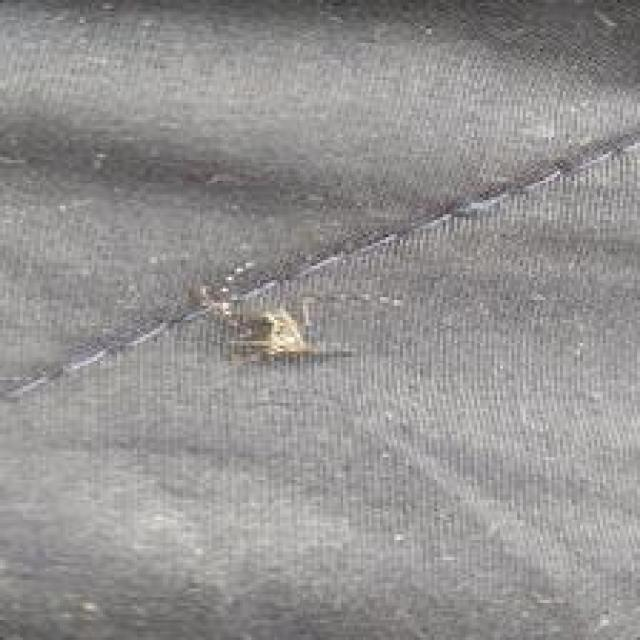Aedes albopictus: (227, 303, 353, 368)
